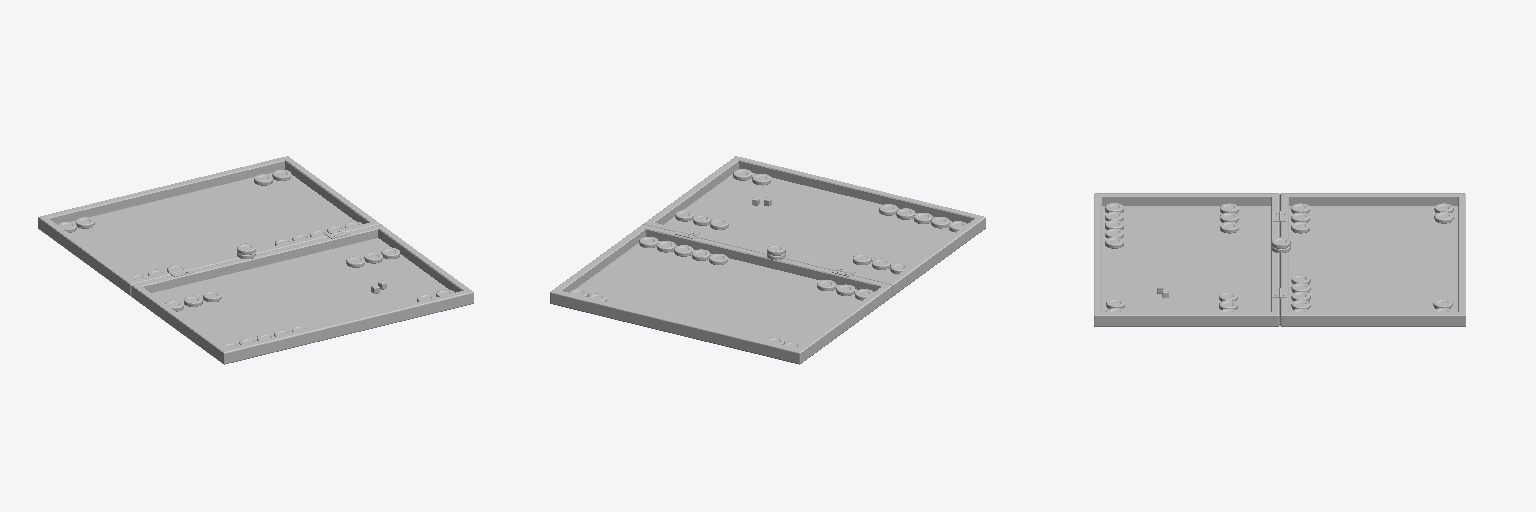
The model's file is tavli.obj.
3 views of the same model, side by side, from view 1: azimuth 30°, elevation 25°; view 2: azimuth 150°, elevation 25°; view 3: azimuth 270°, elevation 25° (orthographic).
Visible parts, largest first — view 1: kapak, ChamferBox02; view 2: ChamferBox02, kapak; view 3: ChamferBox02, kapak.
Part boxes in pixels (left/top/right/bottom): kapak: left=131, top=224, right=473, bottom=364; ChamferBox02: left=38, top=156, right=379, bottom=295; ChamferBox02: left=550, top=224, right=892, bottom=364; kapak: left=644, top=156, right=985, bottom=295; ChamferBox02: left=1280, top=193, right=1465, bottom=326; kapak: left=1094, top=193, right=1279, bottom=326.
Size of the model in its own units: 42 by 3.4 by 54.1.